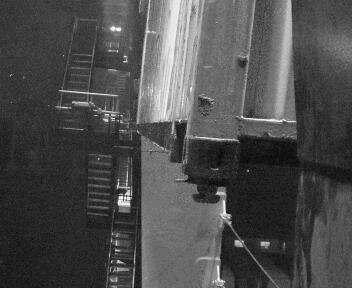twist_lock_1: (189, 142, 217, 164)
